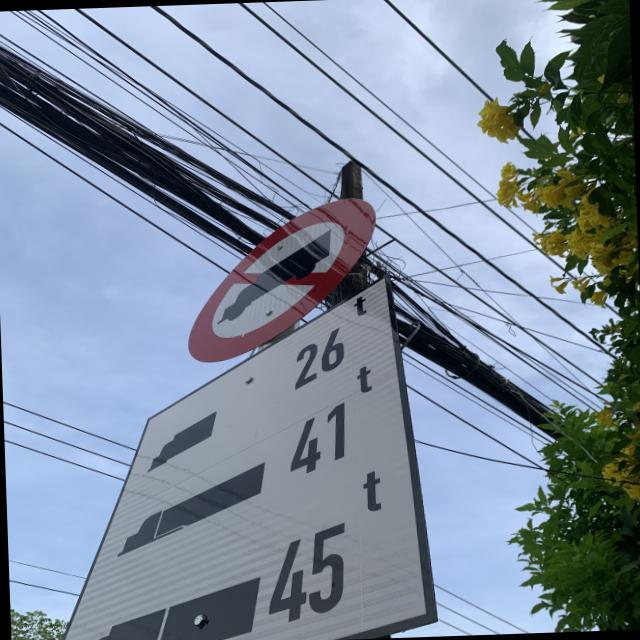Cam_Xe_Tai: (184, 196, 381, 364)
